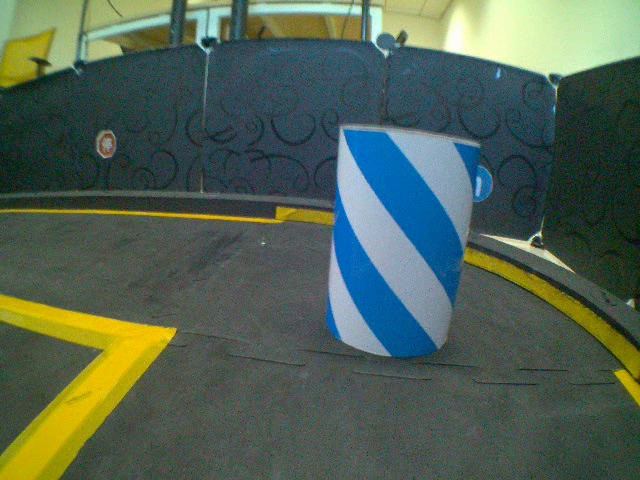bucket: (326, 121, 482, 364)
